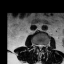CCS_normal: (39, 42, 41, 52)
LFS_normal: (43, 42, 45, 48)
LLS_normal: (41, 42, 43, 49)
RFS_normal: (35, 41, 37, 48)
RLS_normal: (37, 42, 39, 49)
